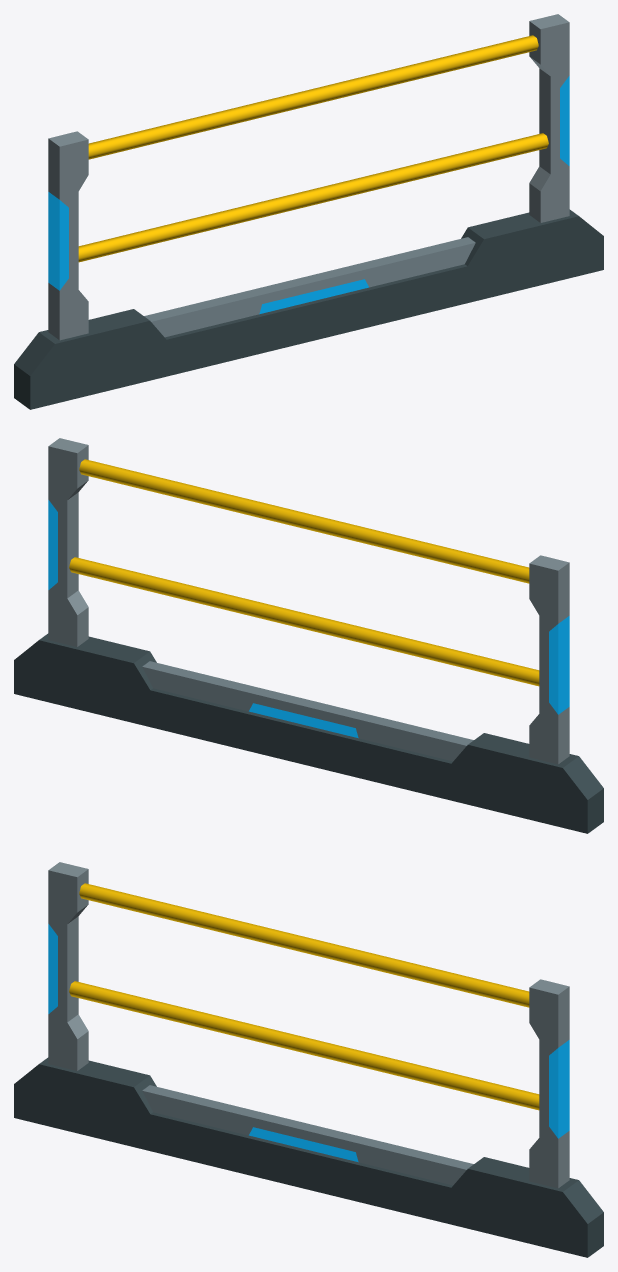
File: Fence_type_C_007.glb
The picture shows the model from 3 angles, top to bottom: view 1: azimuth 30°, elevation 25°; view 2: azimuth 150°, elevation 25°; view 3: azimuth 330°, elevation 25°; orthographic projection.
Parts seen in each view (by area): view 1: Fence_type_C_007; view 2: Fence_type_C_007; view 3: Fence_type_C_007.
Part boxes in pixels (left/top/right/bottom): Fence_type_C_007: left=14, top=14, right=603, bottom=409; Fence_type_C_007: left=14, top=438, right=603, bottom=833; Fence_type_C_007: left=14, top=862, right=603, bottom=1257.
Bounding box in the file's own units: 3.37 × 1.42 × 0.1653.
Materials: 2 (2 with a texture image).
